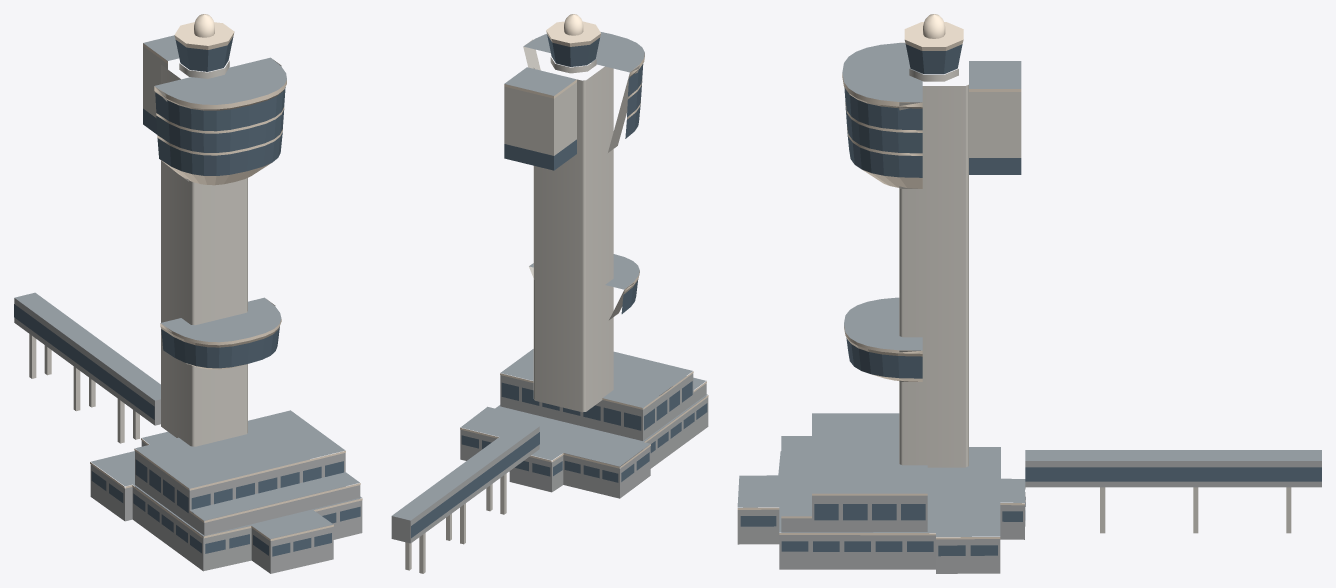
Rendered from nyc-jfk-control-tower.glb.
The picture shows the model from 3 angles, left to right: view 1: azimuth 30°, elevation 25°; view 2: azimuth 150°, elevation 25°; view 3: azimuth 270°, elevation 25°; orthographic projection. The views are drawn at different scales.
Visible parts, largest first — view 1: JFK Airport Air Traffic Control Tower; view 2: JFK Airport Air Traffic Control Tower; view 3: JFK Airport Air Traffic Control Tower.
Part boxes in pixels (x1,y1,x2,y2): JFK Airport Air Traffic Control Tower: [14, 14, 362, 573]; JFK Airport Air Traffic Control Tower: [391, 14, 708, 573]; JFK Airport Air Traffic Control Tower: [737, 14, 1321, 573].
Bounding box in the file's own units: 36.9 × 97.1 × 101.
